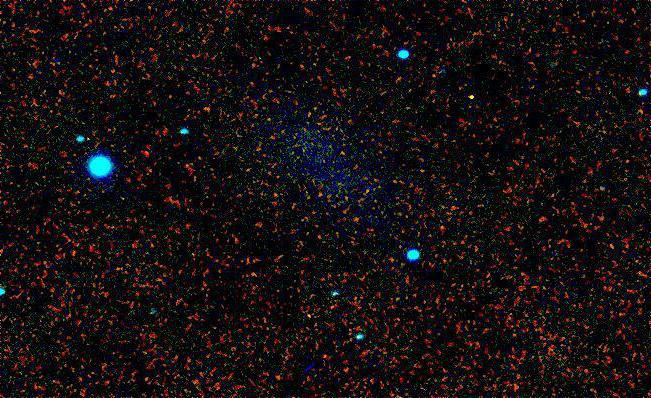star: (452, 84, 482, 114)
